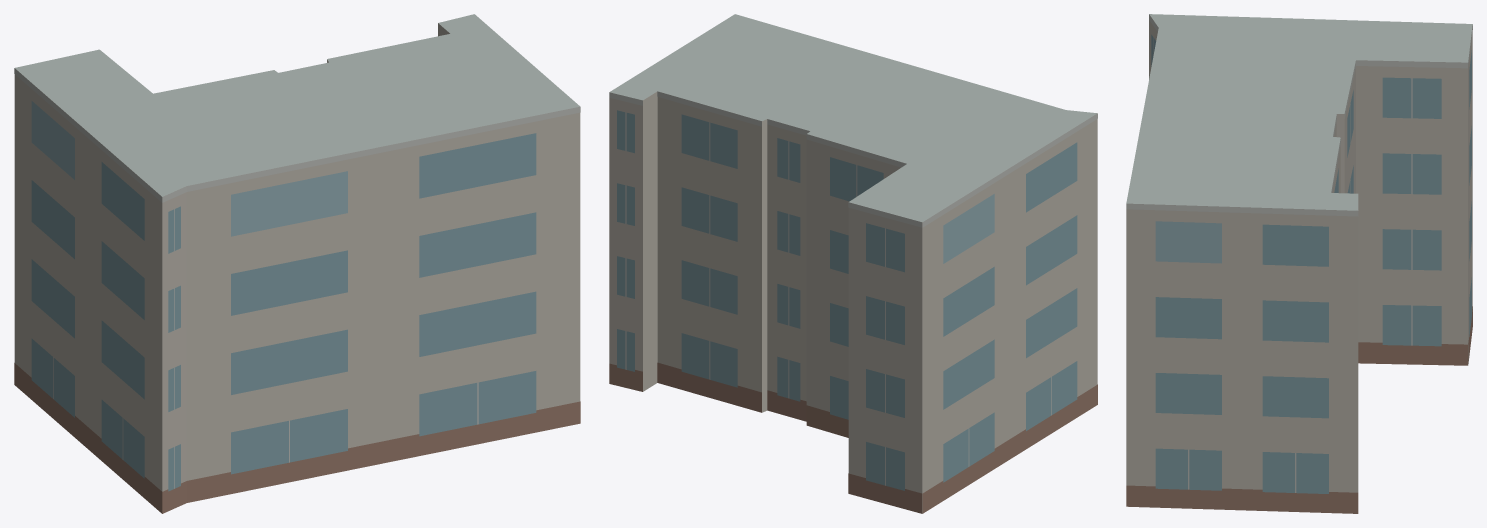
File: survey-upis-32750019.glb
The picture shows the model from 3 angles, left to right: view 1: azimuth 30°, elevation 25°; view 2: azimuth 150°, elevation 25°; view 3: azimuth 270°, elevation 25°; orthographic projection. The views are drawn at different scales.
Visible parts, largest first — view 1: survey-upis-32750019.tmp; view 2: survey-upis-32750019.tmp; view 3: survey-upis-32750019.tmp.
Part boxes in pixels (bbox=[...]): survey-upis-32750019.tmp: bbox=[14, 14, 580, 513]; survey-upis-32750019.tmp: bbox=[609, 14, 1097, 513]; survey-upis-32750019.tmp: bbox=[1126, 14, 1472, 513].
Bounding box in the file's own units: 18.11 × 13 × 13.48.
